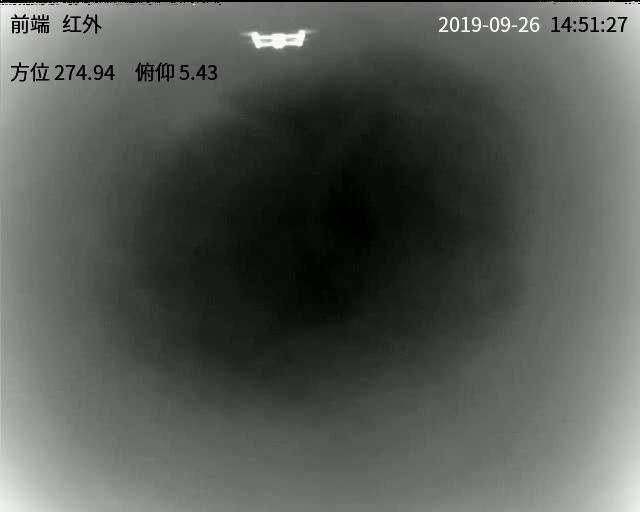DRONE: (243, 28, 309, 50)
